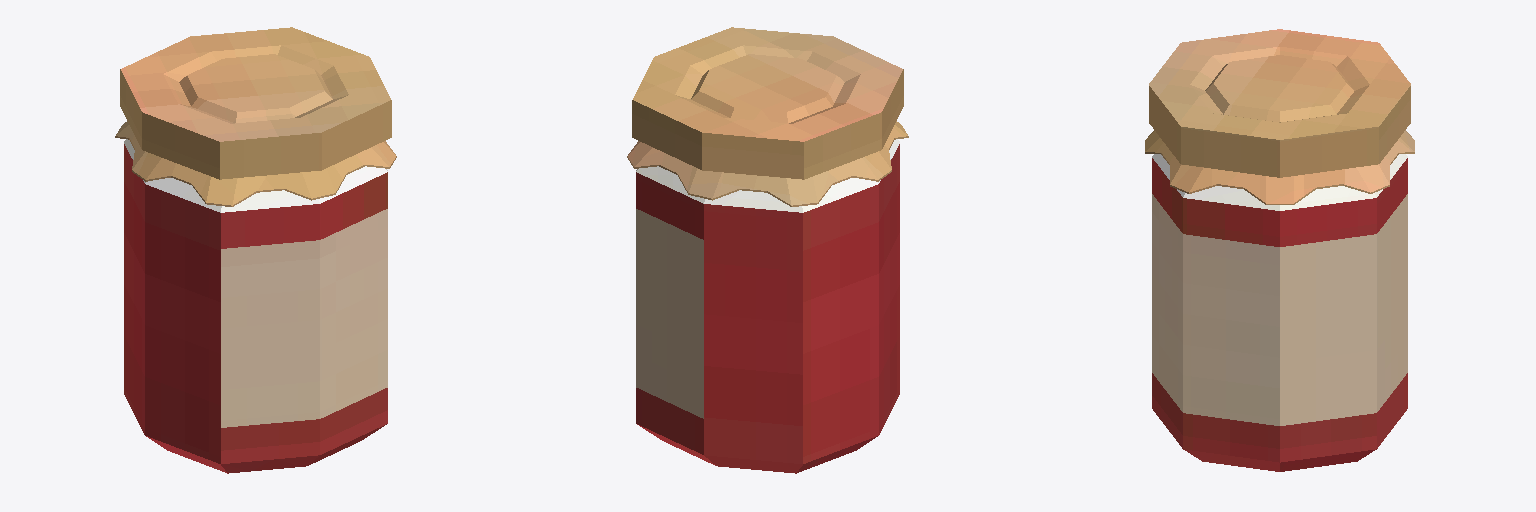
3 renders of one model, left to right at view 1: azimuth 30°, elevation 25°; view 2: azimuth 150°, elevation 25°; view 3: azimuth 270°, elevation 25°, orthographic.
Visible parts, largest first — view 1: Cube.013_Cube.041; view 2: Cube.013_Cube.041; view 3: Cube.013_Cube.041.
Boxes of the visible parts, x1,y1,x2,y2 form: Cube.013_Cube.041: [115, 27, 396, 473]; Cube.013_Cube.041: [627, 27, 908, 473]; Cube.013_Cube.041: [1145, 29, 1414, 471].
Size of the model in its own units: 1.29 by 1.81 by 1.29.
1 materials, 1 textured.